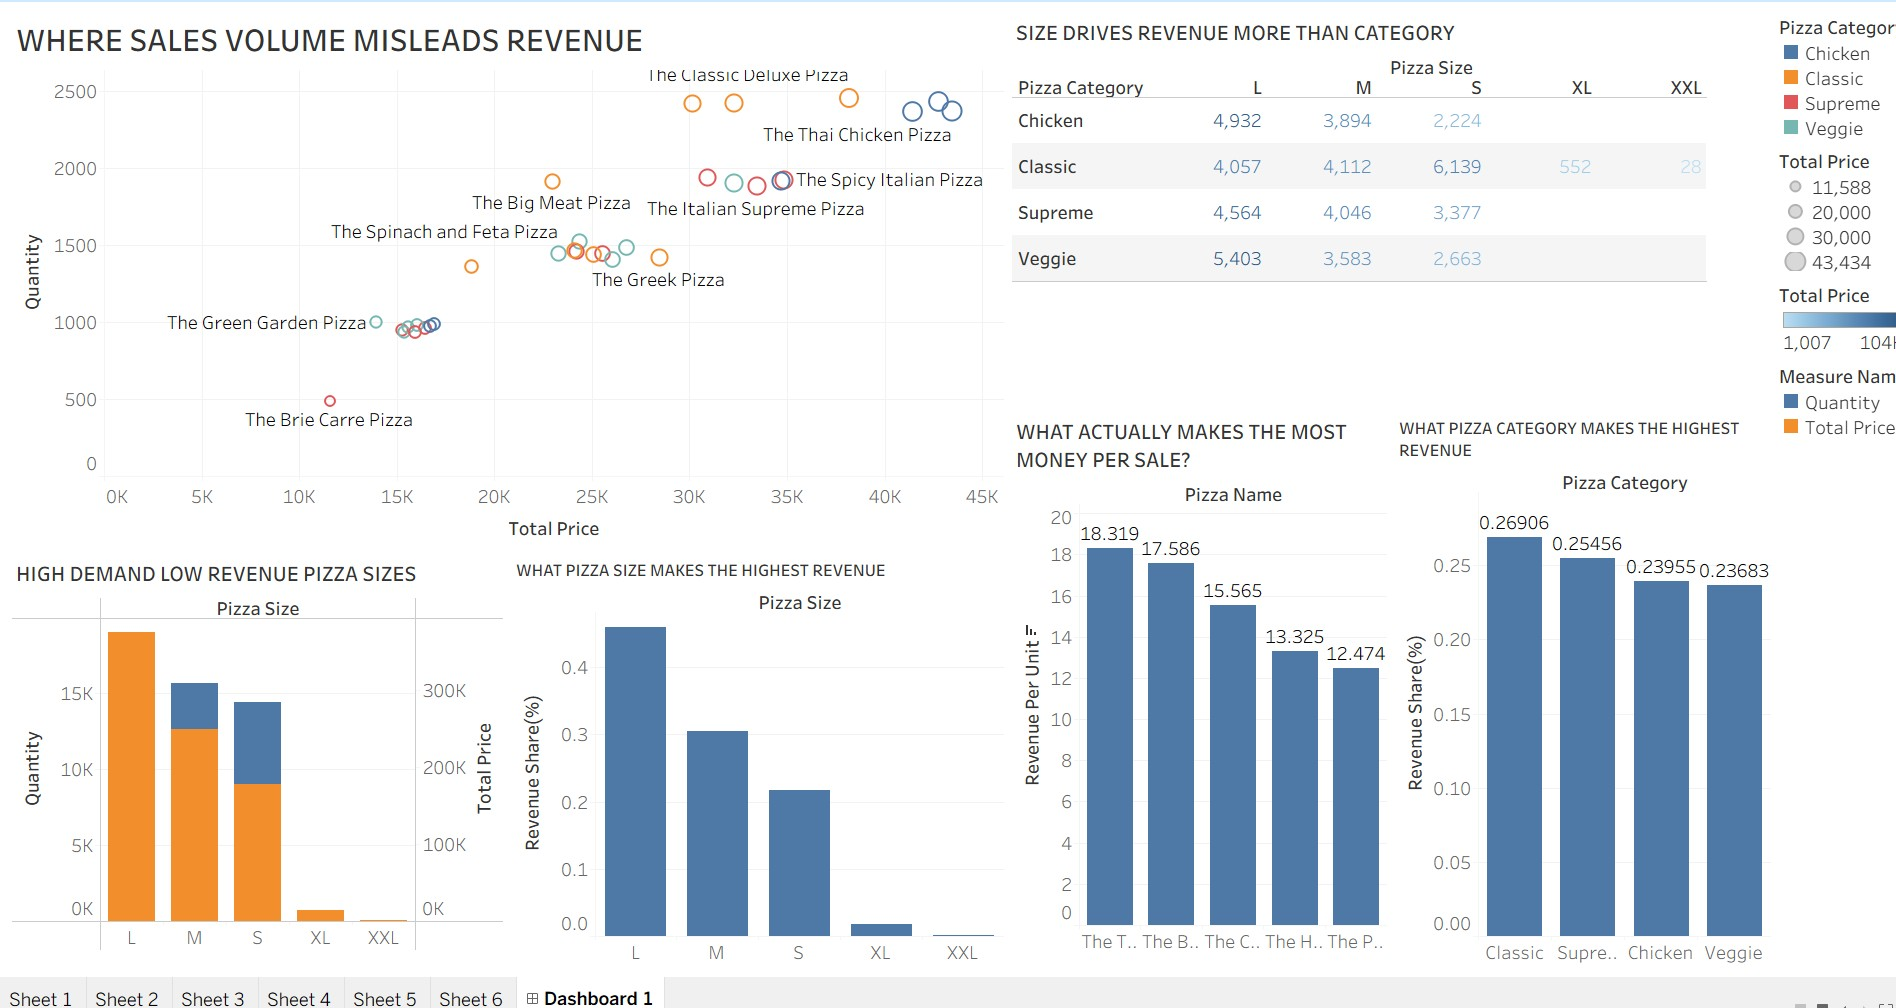

Layout of this report page (visuals, bound fields, positions):
{"tool":"tableau","page":{"name":"Dashboard 1","canvas":[1000,1000],"units":"permille","ordinal":0},"visuals":[{"type":"worksheet","title":"Sheet 1","mark":"Automatic","rows":["quantity"],"cols":["total_price"],"box":[5,10.7,512.1,552.1]},{"type":"worksheet","title":"Sheet 2","mark":"Automatic","rows":["pizza_category"],"cols":["pizza_size"],"box":[517.1,10.7,392.5,407.5]},{"type":"legend","title":"Sheet 1","param":"[federated.1wrdhve1fw6awg1ckcgox10isgji].[none:pizza_category:nk]","box":[909.6,10.7,85.4,179.6]},{"type":"legend","title":"Sheet 1","param":"[federated.1wrdhve1fw6awg1ckcgox10isgji].[sum:total_price:qk]","box":[909.6,190.3,85.4,179.6]},{"type":"legend","title":"Sheet 2","param":"[federated.1wrdhve1fw6awg1ckcgox10isgji].[sum:total_price:qk]","box":[909.6,370,85.4,108.6]},{"type":"worksheet","title":"Sheet 4","mark":"Automatic","rows":["Calculation_0885948642222080"],"cols":["pizza_name"],"box":[517.1,418.2,196.2,571.1]},{"type":"worksheet","title":"Sheet 6","mark":"Automatic","rows":["Calculation_0885948723580929"],"cols":["pizza_category"],"box":[713.3,418.2,196.3,571.1]},{"type":"legend","title":"Sheet 3","param":"[federated.1wrdhve1fw6awg1ckcgox10isgji].[:Measure Names]","box":[909.6,478.5,85.4,112.6]},{"type":"worksheet","title":"Sheet 3","mark":"Automatic","rows":["quantity","total_price"],"cols":["pizza_size"],"box":[5,562.9,256,426.4]},{"type":"worksheet","title":"Sheet 5","mark":"Automatic","rows":["Calculation_0885948723580929"],"cols":["pizza_size"],"box":[261,562.9,256.1,426.4]}]}

Visuals, with their boxes on the dashboard's canvas, which has no fixed pixel size, in thousandths of its width and height (x1, y1, x2, y2). These are canvas units, not pixel positions in the 1896x1008 screenshot, which may show the page scaled, cropped or inside an application window:
"Sheet 1" worksheet: 5/11/517/563
"Sheet 2" worksheet: 517/11/910/418
"Sheet 1" legend: 910/11/995/190
"Sheet 1" legend: 910/190/995/370
"Sheet 2" legend: 910/370/995/479
"Sheet 4" worksheet: 517/418/713/989
"Sheet 6" worksheet: 713/418/910/989
"Sheet 3" legend: 910/478/995/591
"Sheet 3" worksheet: 5/563/261/989
"Sheet 5" worksheet: 261/563/517/989
